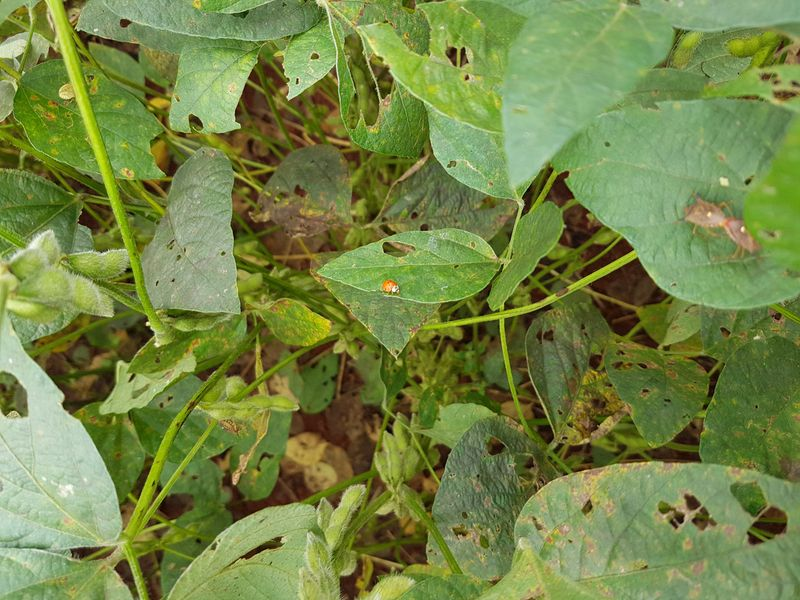Coccinellidae: (376, 274, 407, 303)
Euschistus_heros_adulto: (727, 204, 779, 269), (674, 186, 728, 247)
Euschistus_heros_ninfa: (53, 78, 81, 105)
